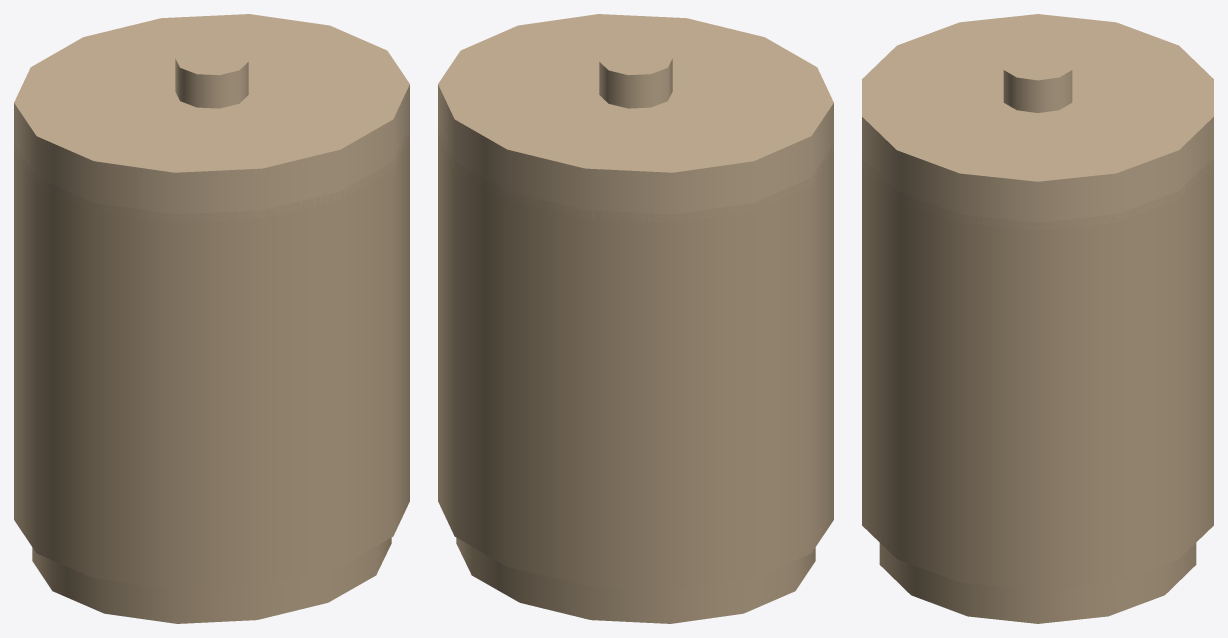
File: laundry-basket.glb
The picture shows the model from 3 angles, left to right: view 1: azimuth 30°, elevation 25°; view 2: azimuth 150°, elevation 25°; view 3: azimuth 270°, elevation 25°; orthographic projection. The views are drawn at different scales.
Size of the model in its own units: 0.44 by 0.59 by 0.39.
